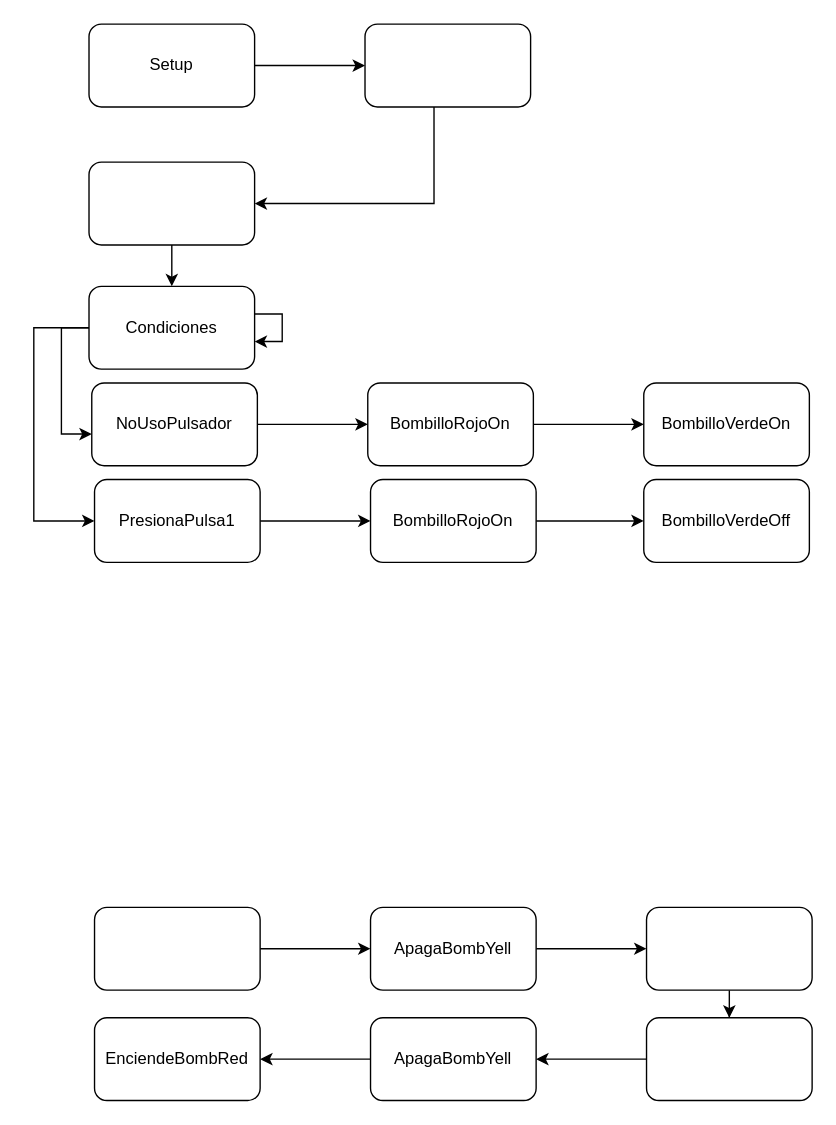
The diagram is 836 pixels wide and 1125 high, and some of its shapes have lost their labels. The shapes that lost their labels are listed below. From the top down, each one's centre as x and y in pixels, then its label:
pixel 447 65: Configura 2 leds 1 Pulsar
pixel 171 203: Loop
pixel 176 948: ApagaBombRed
pixel 728 948: EnciendeBombGree
pixel 728 1058: ApagaBombGree
